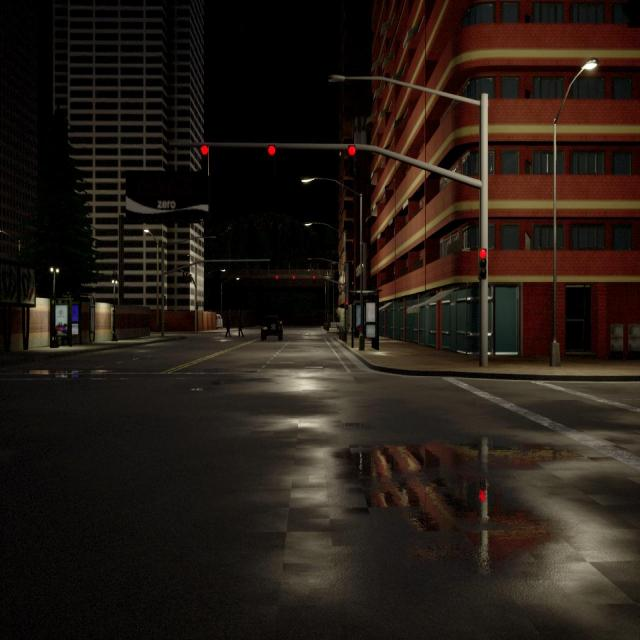Pedestrian: (225, 312, 232, 338), (237, 313, 244, 338)
Vehicle: (260, 316, 284, 342), (216, 314, 223, 330)
traffic_light: (478, 248, 487, 280), (267, 145, 276, 171), (200, 144, 208, 171), (348, 145, 356, 170), (185, 272, 188, 281), (189, 274, 192, 282), (346, 300, 348, 310), (312, 275, 316, 279), (196, 302, 198, 310), (183, 272, 185, 279), (292, 275, 295, 279), (276, 275, 278, 279)
